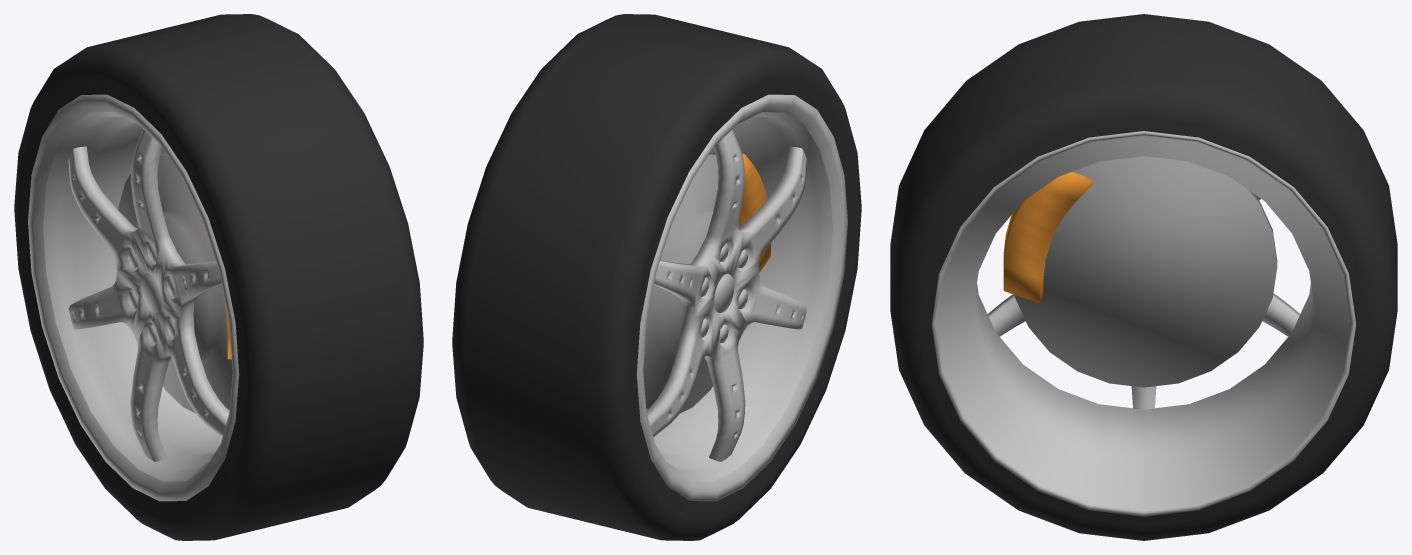
File: Nissan_350Z_right_wheel.glb
3 views of the same model, side by side, from view 1: azimuth 30°, elevation 25°; view 2: azimuth 150°, elevation 25°; view 3: azimuth 270°, elevation 25° (orthographic).
Parts seen in each view (by area): view 1: Cube.003; view 2: Cube.003; view 3: Cube.003.
Boxes of the visible parts, x1=… form: Cube.003: x1=14, y1=14, x2=423, y2=540; Cube.003: x1=452, y1=14, x2=861, y2=540; Cube.003: x1=890, y1=14, x2=1397, y2=540.
Bounding box in the file's own units: 0.3053 × 0.7447 × 0.7447.
